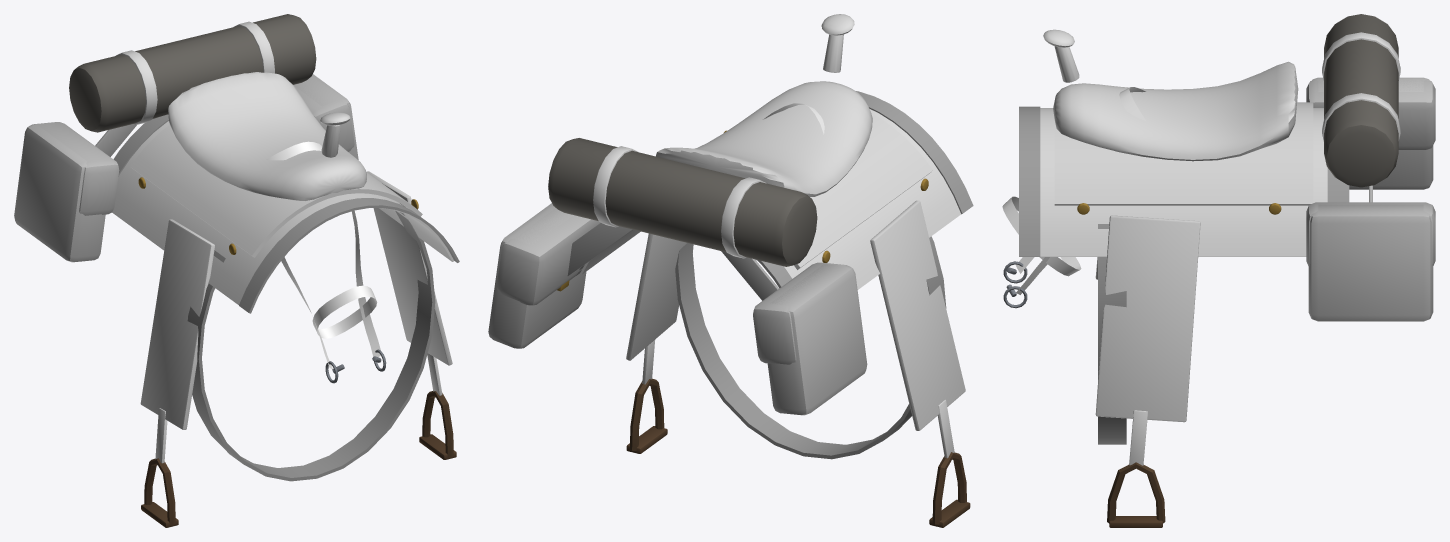
The model's file is tack.fbx.
3 views of the same model, side by side, from view 1: azimuth 30°, elevation 25°; view 2: azimuth 150°, elevation 25°; view 3: azimuth 270°, elevation 25° (orthographic). The views are drawn at different scales.
Visible parts, largest first — view 1: tack_saddle, tack_bags, tack_bridle; view 2: tack_saddle, tack_bags; view 3: tack_saddle, tack_bags, tack_bridle.
Boxes of the visible parts, x1=… form: tack_saddle: x1=112, y1=72, x2=459, y2=527; tack_bags: x1=14, y1=14, x2=358, y2=262; tack_bridle: x1=266, y1=141, x2=386, y2=383; tack_saddle: x1=576, y1=14, x2=973, y2=527; tack_bags: x1=488, y1=138, x2=867, y2=415; tack_saddle: x1=1019, y1=29, x2=1349, y2=527; tack_bags: x1=1306, y1=14, x2=1435, y2=321; tack_bridle: x1=1002, y1=87, x2=1145, y2=308.
Size of the model in its own units: 0.757 by 0.9685 by 0.9043.
